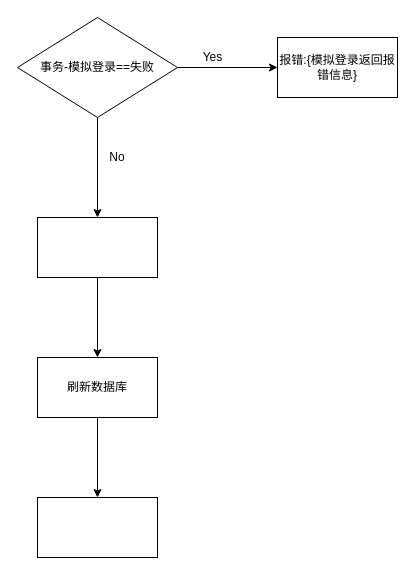
Image size: 415x575. Some labels were removed from this diagram. Each missing label, with the box of its shape:
刷新页面: (36, 496, 158, 558)
爬取用户已修课程: (36, 216, 158, 278)
